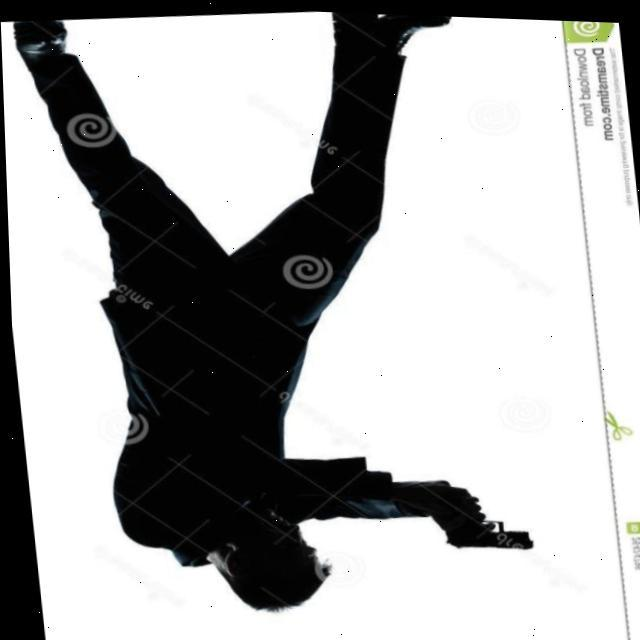gun: (435, 493, 534, 551)
